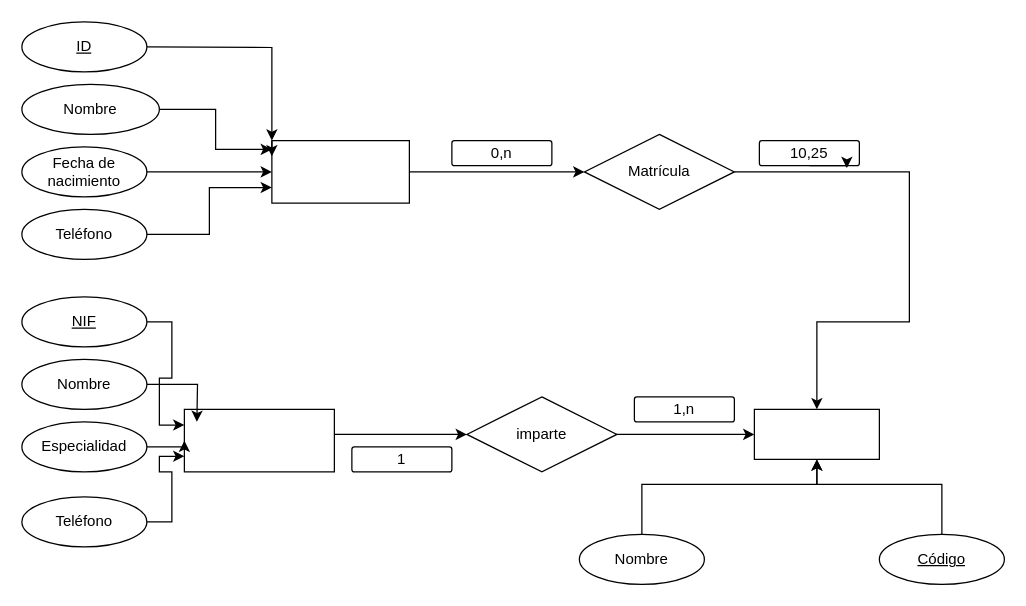
Image size: 1026x606. Some labels were removed from this diagram. Each missing label, with the centre of its shape:
"Alumno" goes at [340,171].
"Asignatura" goes at [816,433].
"Profesores" goes at [258,440].
